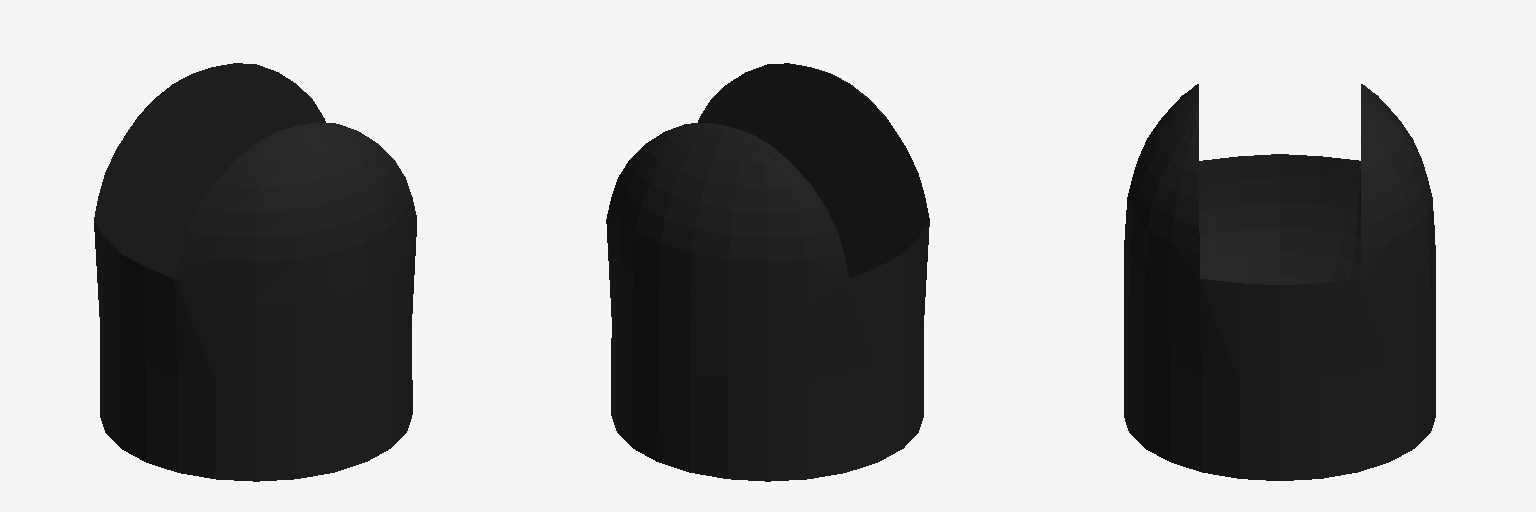
File: Tr-Grue-LeverBase-Y_01.obj
3 renders of one model, left to right at view 1: azimuth 30°, elevation 25°; view 2: azimuth 150°, elevation 25°; view 3: azimuth 270°, elevation 25°, orthographic.
Visible parts, largest first — view 1: Tr-Grue-LeverBase-Y_01_BaseLevier.004; view 2: Tr-Grue-LeverBase-Y_01_BaseLevier.004; view 3: Tr-Grue-LeverBase-Y_01_BaseLevier.004.
Part boxes in pixels (x1,y1,x2,y2): Tr-Grue-LeverBase-Y_01_BaseLevier.004: (94,63,416,481); Tr-Grue-LeverBase-Y_01_BaseLevier.004: (606,63,929,481); Tr-Grue-LeverBase-Y_01_BaseLevier.004: (1124,84,1435,480).
Bounding box in the file's own units: 0.0726 × 0.0817 × 0.0725.